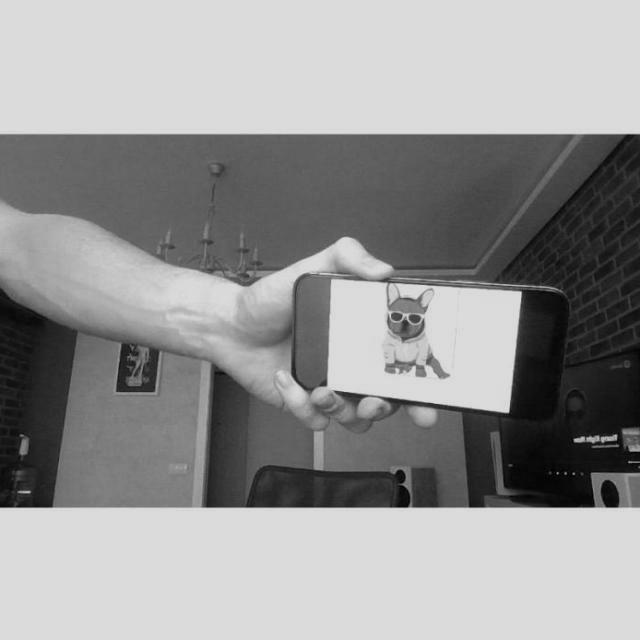fake: (285, 266, 571, 426)
